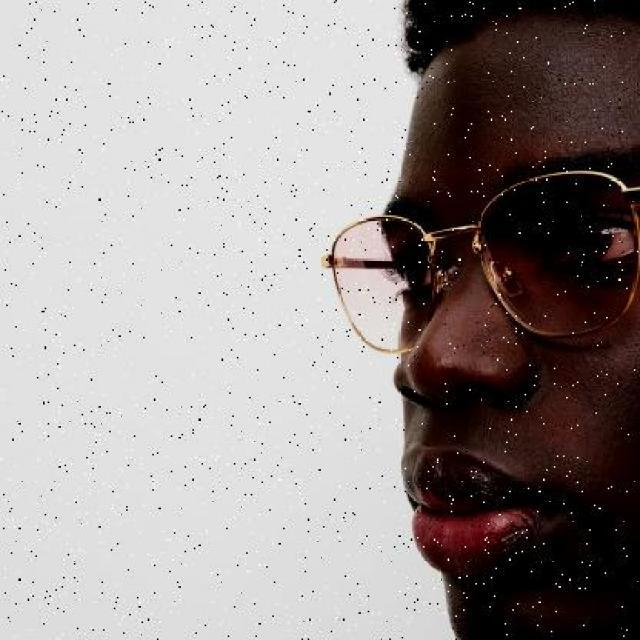sunglasses: (318, 164, 640, 364)
